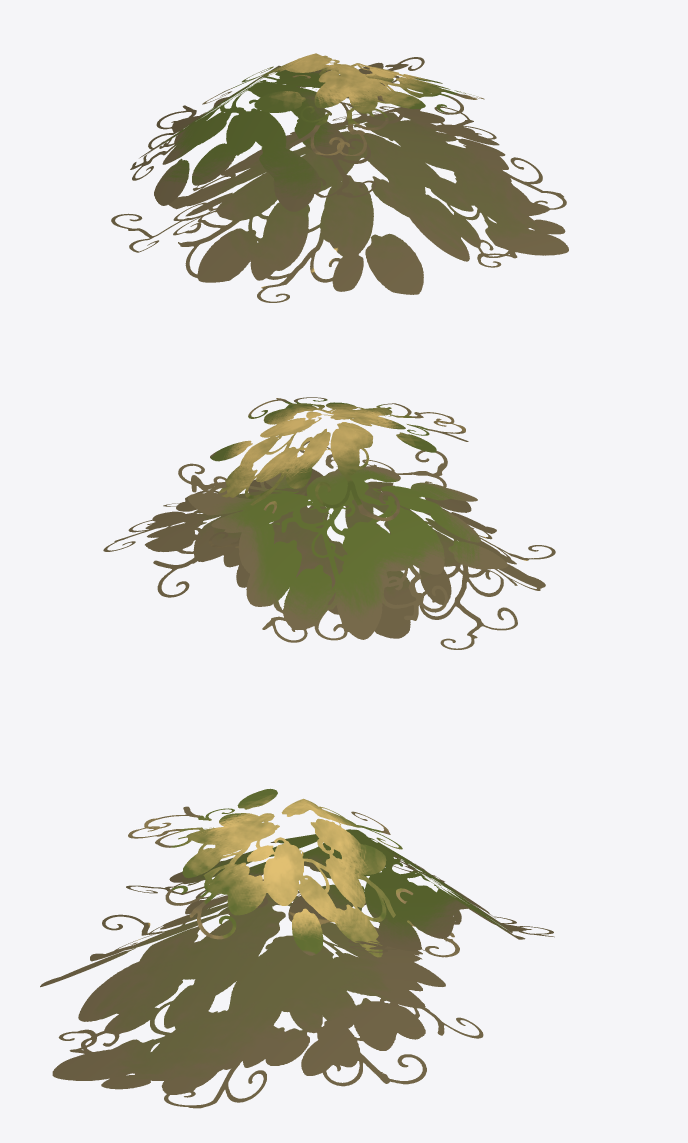
Rendered from Bush1.fbx.
3 renders of one model, top to bottom at view 1: azimuth 30°, elevation 25°; view 2: azimuth 150°, elevation 25°; view 3: azimuth 270°, elevation 25°, orthographic. The views are drawn at different scales.
Parts seen in each view (by area): view 1: MidBush; view 2: MidBush; view 3: MidBush.
Boxes of the visible parts, x1,y1,x2,y2 form: MidBush: (111,53,568,302); MidBush: (103,397,555,649); MidBush: (40,788,554,1108).
Bounding box in the file's own units: 185 × 57.76 × 179.
